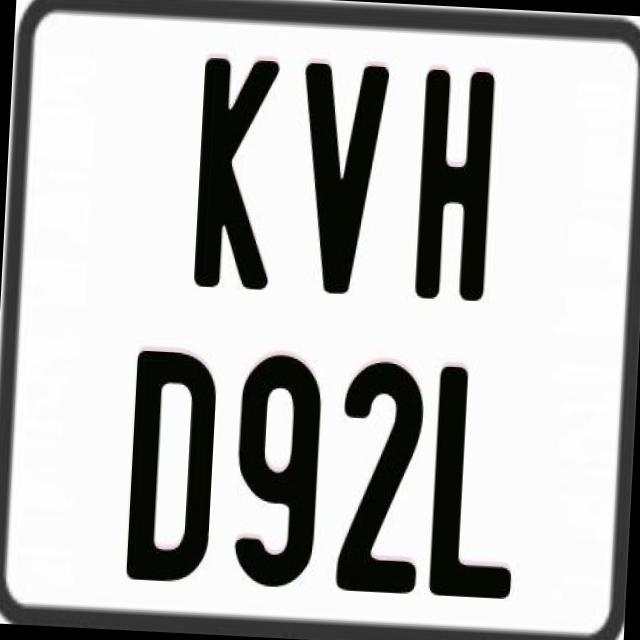2: (332, 357, 432, 599)
9: (228, 350, 327, 596)
D: (124, 350, 224, 590)
H: (413, 64, 501, 307)
K: (190, 52, 284, 288)
L: (425, 367, 523, 608)
V: (294, 59, 392, 298)
